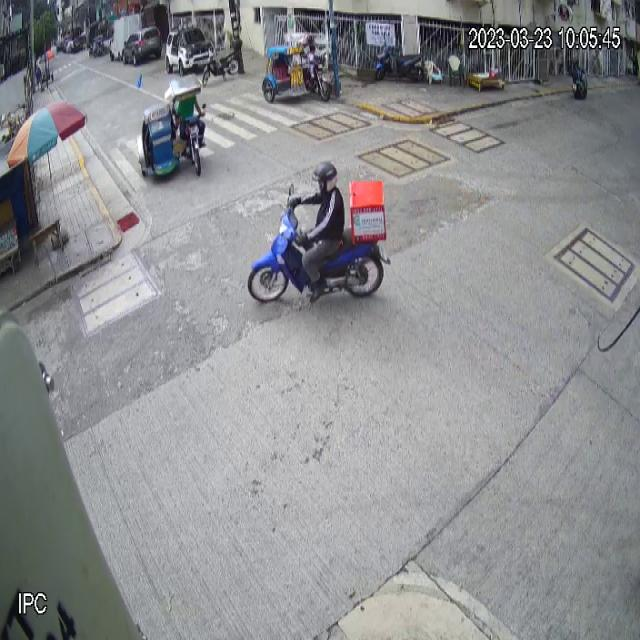Motorcycle: (246, 183, 393, 311)
Tricycle: (136, 73, 208, 184), (261, 33, 332, 106)
